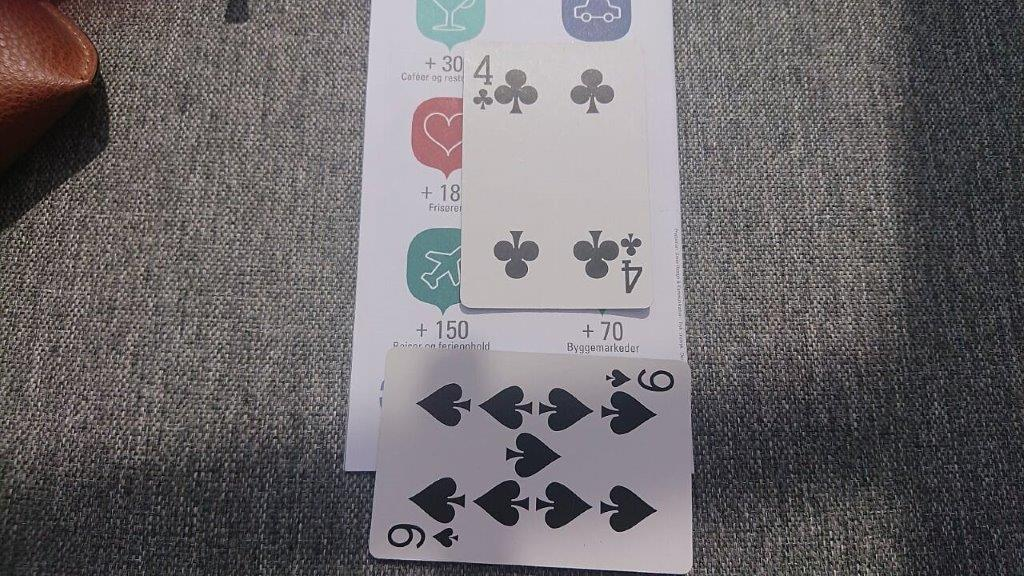4C: (469, 50, 496, 114)
